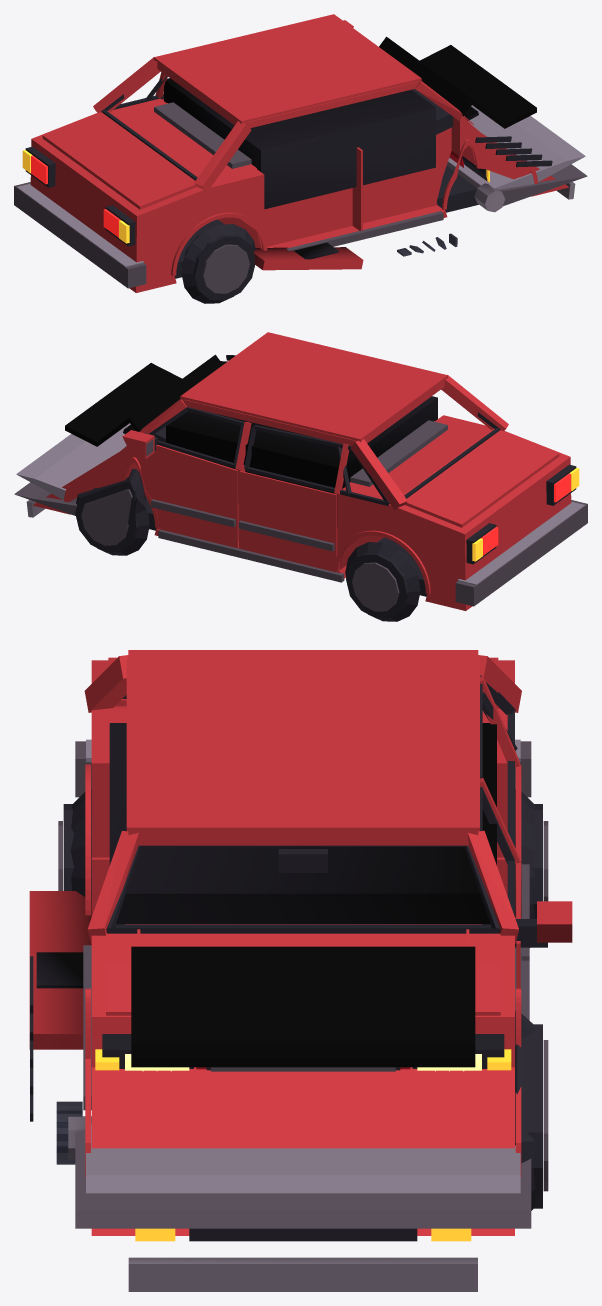
Rendered from veh.sedan-red.wrecked.glb.
3 renders of one model, top to bottom at view 1: azimuth 30°, elevation 25°; view 2: azimuth 150°, elevation 25°; view 3: azimuth 270°, elevation 25°, orthographic. The views are drawn at different scales.
Parts seen in each view (by area): view 1: body, object 9, wheelRL, lightsBrake, wheelFL; view 2: body, object 9, doorR, wheelRR, wheelFR, lightsBrake; view 3: body, object 9, wheelFR, doorR, wheelRR, lightsFront, wheelRL.
Boxes of the visible parts, box(x1,y1,x2,y2) form: body: box(14, 14, 587, 292); object 9: box(113, 36, 575, 270); wheelRL: box(181, 224, 255, 303); lightsBrake: box(22, 150, 129, 243); wheelFL: box(474, 183, 505, 212); body: box(14, 332, 587, 610); object 9: box(26, 354, 437, 572); doorR: box(122, 407, 251, 548); wheelRR: box(345, 542, 420, 621); wheelFR: box(75, 469, 149, 555); lightsBrake: box(472, 468, 579, 561); body: box(75, 650, 531, 1241); object 9: box(29, 675, 529, 1291); wheelFR: box(515, 1011, 548, 1210); doorR: box(480, 778, 572, 1020); wheelRR: box(515, 789, 548, 918); lightsFront: box(95, 1049, 511, 1241); wheelRL: box(58, 789, 91, 898).
Bounding box in the file's own units: 4.53 × 1.57 × 2.31.
